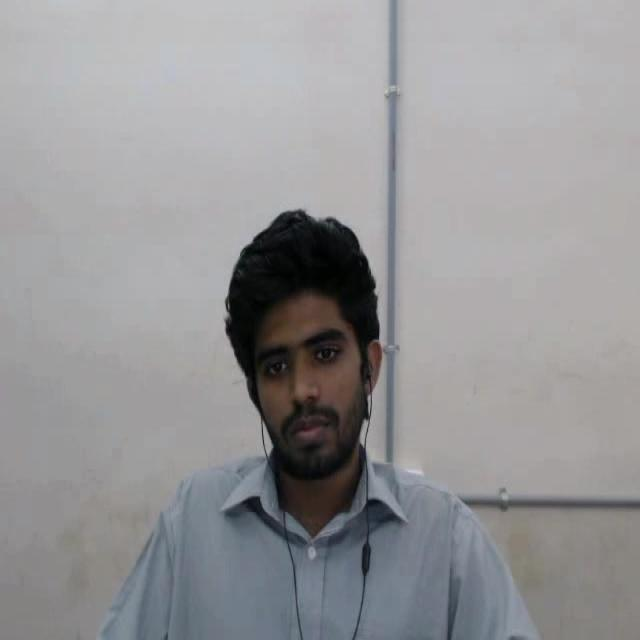Engaged: (193, 194, 410, 512)
